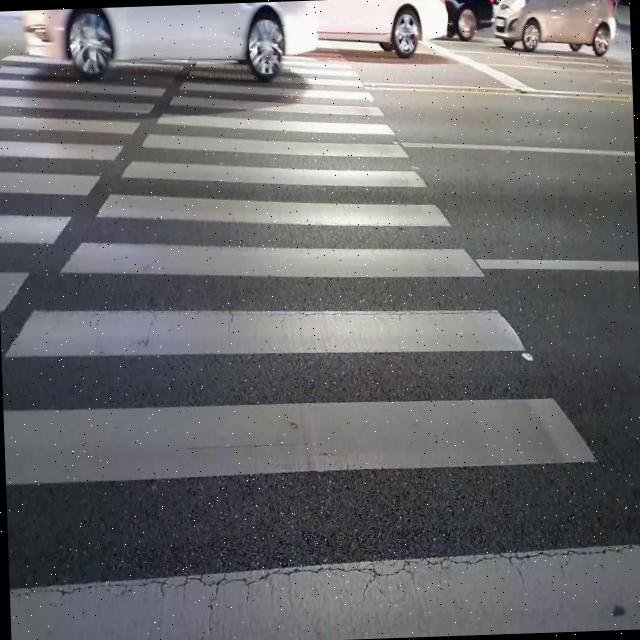crosswalk: (0, 19, 640, 640)
